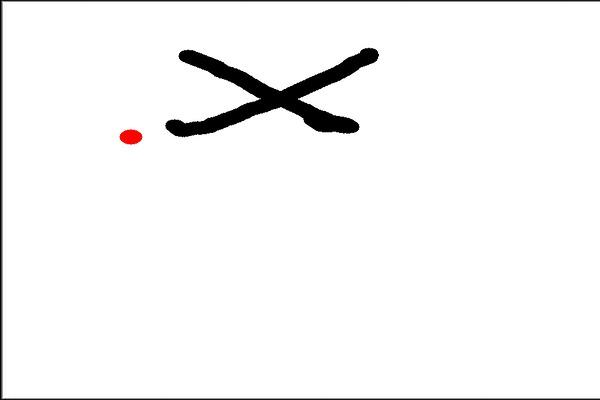X: (157, 34, 390, 148)
